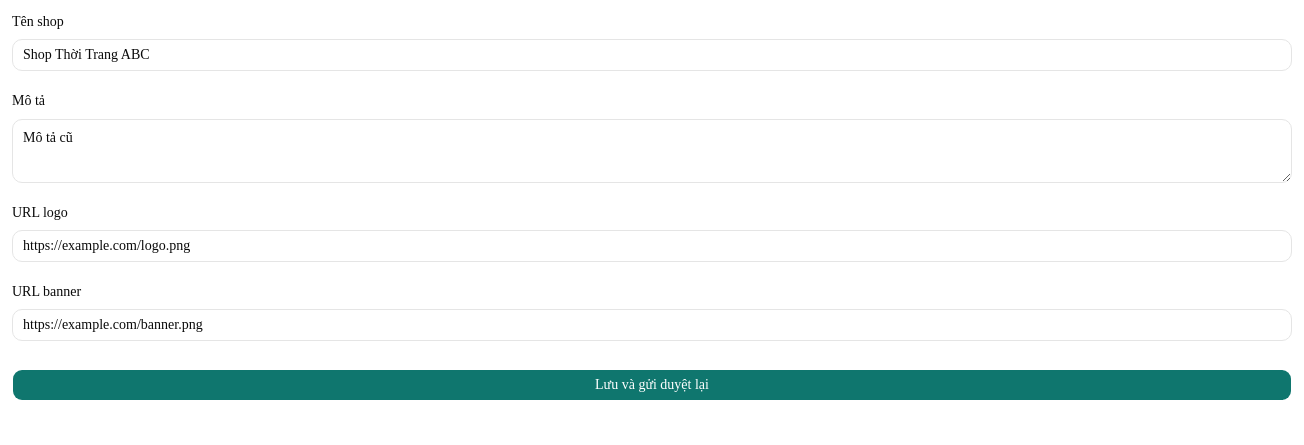
UpdateShopForm › submitVariant="resubmit" (shop REJECTED) › still validates before resubmitting (cleared name blocks the request)
This screenshot has width=1304, height=445.
Clear the field labelled "Tên shop": [652, 55] box left=12, top=39, right=1292, bottom=71
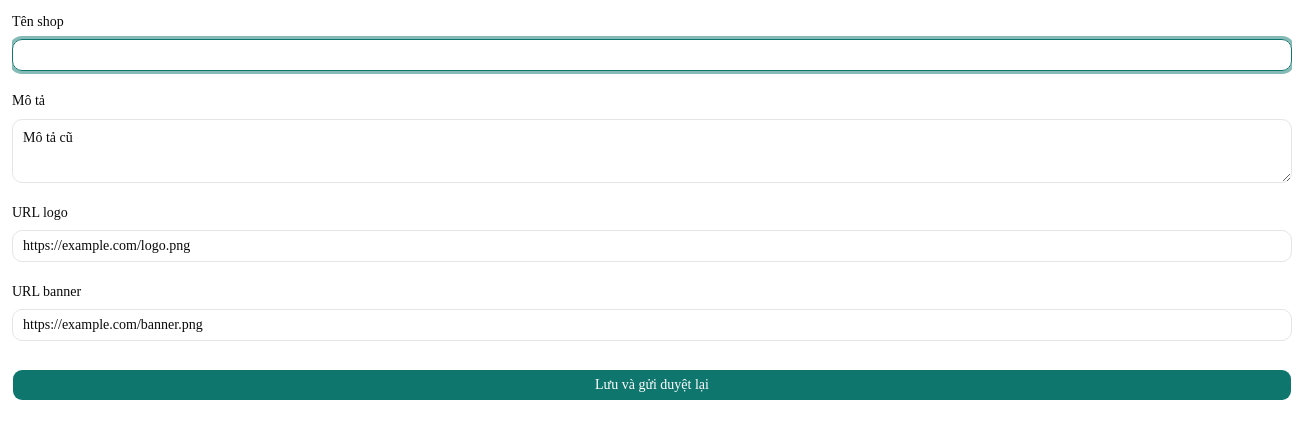
Click the button "Lưu và gửi duyệt lại": [652, 385] box left=12, top=369, right=1292, bottom=401
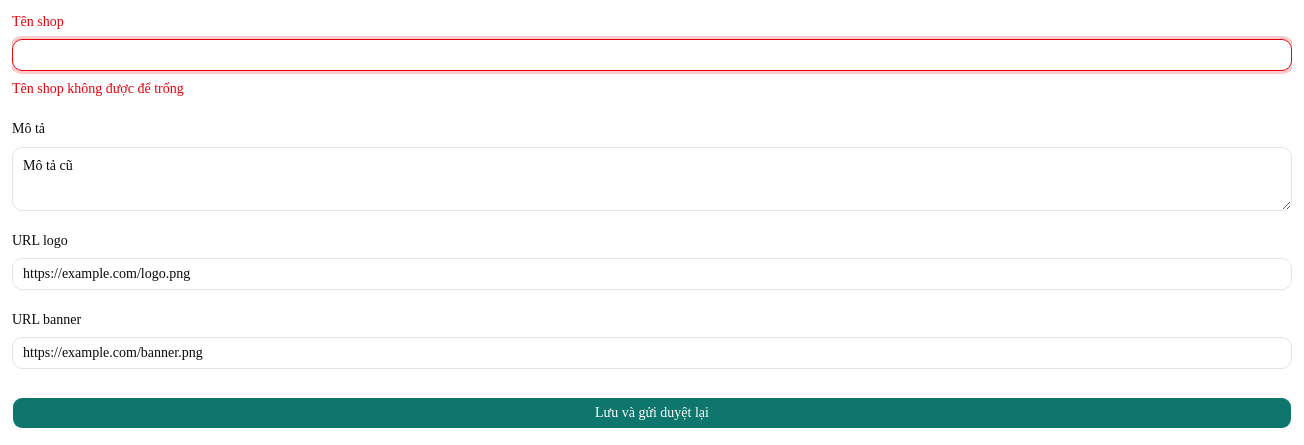
Expected: the text "Tên shop không được để trống" is shown, left=12, top=81, right=184, bottom=96
